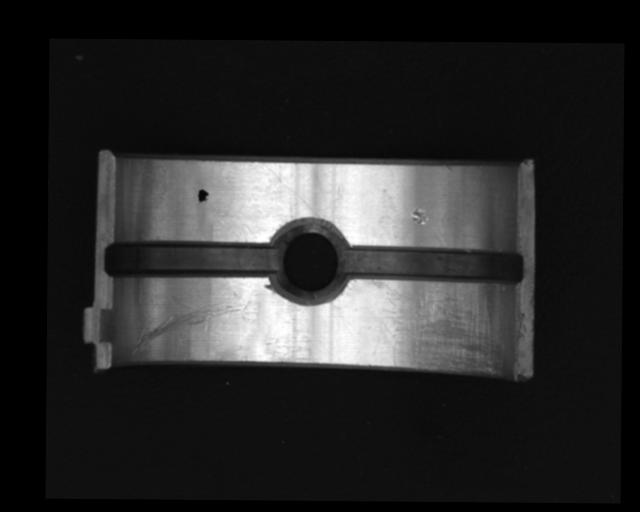blot: (197, 188, 209, 205)
bruise: (409, 206, 429, 226)
gap: (341, 244, 527, 287), (103, 240, 278, 279)
hole: (266, 220, 350, 303)
nick: (131, 293, 248, 356)
scratch: (369, 279, 506, 377)
